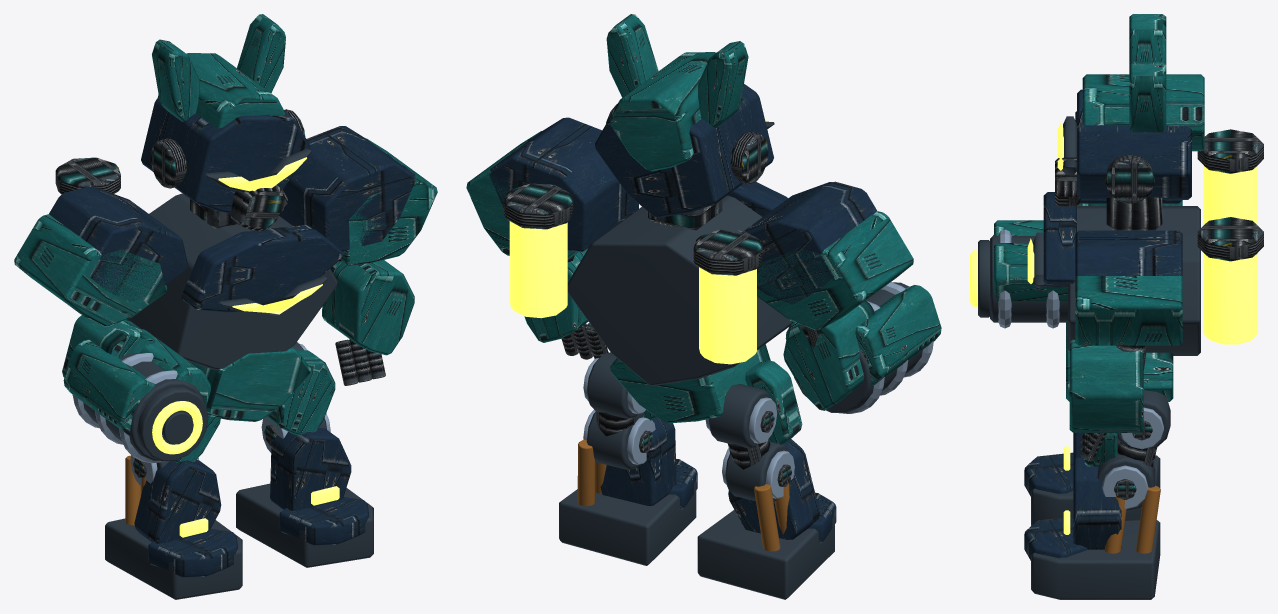
File: scout.glb
The picture shows the model from 3 angles, left to right: view 1: azimuth 30°, elevation 25°; view 2: azimuth 150°, elevation 25°; view 3: azimuth 270°, elevation 25°; orthographic projection. The views are drawn at different scales.
Parts seen in each view (by area): view 1: Navy crown, Cuirass yoke, Angular scout torso, Greave armor, Greave armor.001, Neck actuator, Servo housing.004, Servo housing.001, Recessed V optic, Tapered thigh shield.001, Bearing ring, Calf piston; view 2: Navy crown, Cuirass yoke, Angular scout torso, Servo housing.001, Servo housing.004, Biome pressure capsule, Neck actuator, Greave armor.001, Greave armor, Tapered thigh shield, Bearing ring.002, Calf piston (+5 smaller); view 3: Navy crown, Cuirass yoke, Neck actuator, Angular scout torso, Servo housing.004, Biome pressure capsule, Greave armor.001, Greave armor, Bearing ring.008, Calf piston.002, Servo housing.001, Hub.008 (+3 smaller).
Part boxes in pixels (x1,y1,x2,y2): Navy crown: (14, 14, 437, 435); Cuirass yoke: (49, 97, 415, 312); Angular scout torso: (72, 148, 337, 461); Greave armor: (134, 459, 237, 577); Greave armor.001: (270, 428, 368, 545); Neck actuator: (55, 109, 385, 385); Servo housing.004: (236, 342, 373, 567); Servo housing.001: (105, 461, 242, 599); Recessed V optic: (152, 157, 322, 454); Tapered thigh shield.001: (267, 350, 335, 435); Bearing ring: (73, 353, 177, 463); Calf piston: (125, 455, 145, 525); Navy crown: (466, 14, 941, 423); Cuirass yoke: (489, 84, 876, 304); Angular scout torso: (567, 121, 922, 413); Servo housing.001: (697, 384, 834, 599); Servo housing.004: (559, 352, 696, 565); Biome pressure capsule: (509, 221, 756, 364); Neck actuator: (504, 103, 817, 359); Greave armor.001: (600, 417, 697, 509); Greave armor: (728, 439, 836, 543); Tapered thigh shield: (745, 360, 802, 444); Bearing ring.002: (705, 397, 794, 498); Calf piston: (754, 483, 789, 551); Navy crown: (994, 14, 1204, 432); Cuirass yoke: (1043, 89, 1191, 287); Neck actuator: (1055, 129, 1263, 461); Angular scout torso: (978, 116, 1200, 355); Servo housing.004: (1031, 390, 1170, 599); Biome pressure capsule: (1203, 165, 1257, 344); Greave armor.001: (1024, 457, 1121, 560); Greave armor: (1024, 433, 1118, 496); Bearing ring.008: (1102, 407, 1163, 509); Calf piston.002: (1104, 485, 1160, 553); Servo housing.001: (1031, 455, 1160, 525); Hub.008: (1114, 420, 1157, 499).
Bounding box in the file's own units: 1.17 × 1.52 × 0.7935.
8 materials, 3 textured.
